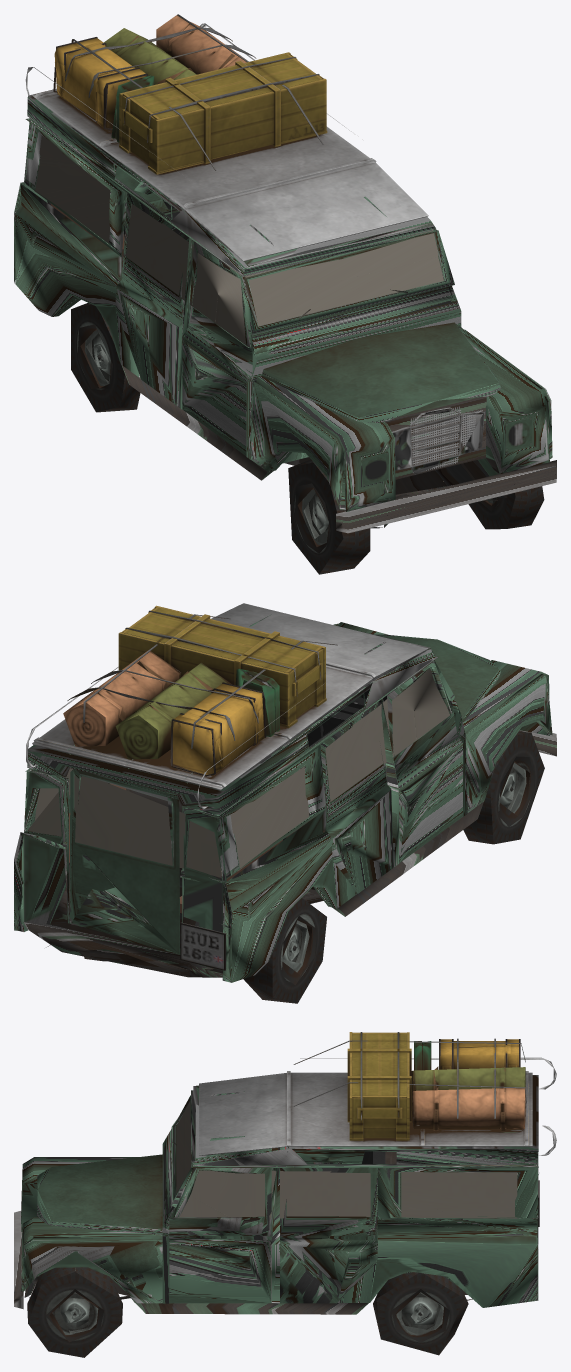
Rendered from land_rover_game.gltf.
3 renders of one model, top to bottom at view 1: azimuth 30°, elevation 25°; view 2: azimuth 150°, elevation 25°; view 3: azimuth 270°, elevation 25°, orthographic. The views are drawn at different scales.
Parts seen in each view (by area): view 1: land_rover; view 2: land_rover; view 3: land_rover.
Boxes of the visible parts, bbox=[...] form: land_rover: bbox=[14, 14, 556, 574]; land_rover: bbox=[14, 603, 556, 1003]; land_rover: bbox=[14, 1032, 556, 1357].
Size of the model in its own units: 1.49 by 2.07 by 3.97.
6 materials, 6 textured.
